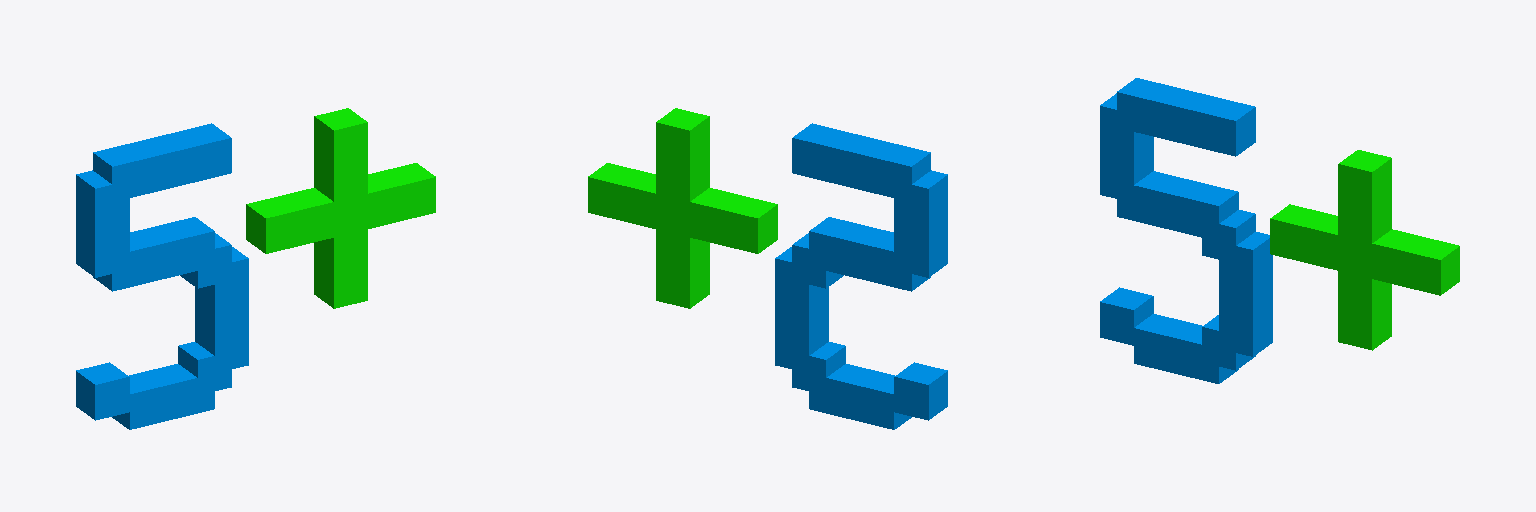
3 renders of one model, left to right at view 1: azimuth 30°, elevation 25°; view 2: azimuth 150°, elevation 25°; view 3: azimuth 330°, elevation 25°, orthographic.
Visible parts, largest first — view 1: object 1; view 2: object 1; view 3: object 1.
Part boxes in pixels (x1,y1,x2,y2): object 1: (76, 108, 435, 429); object 1: (588, 108, 947, 429); object 1: (1100, 78, 1459, 383).
Size of the model in its own units: 2 by 1.5 by 0.2.
Materials: 1 (1 with a texture image).